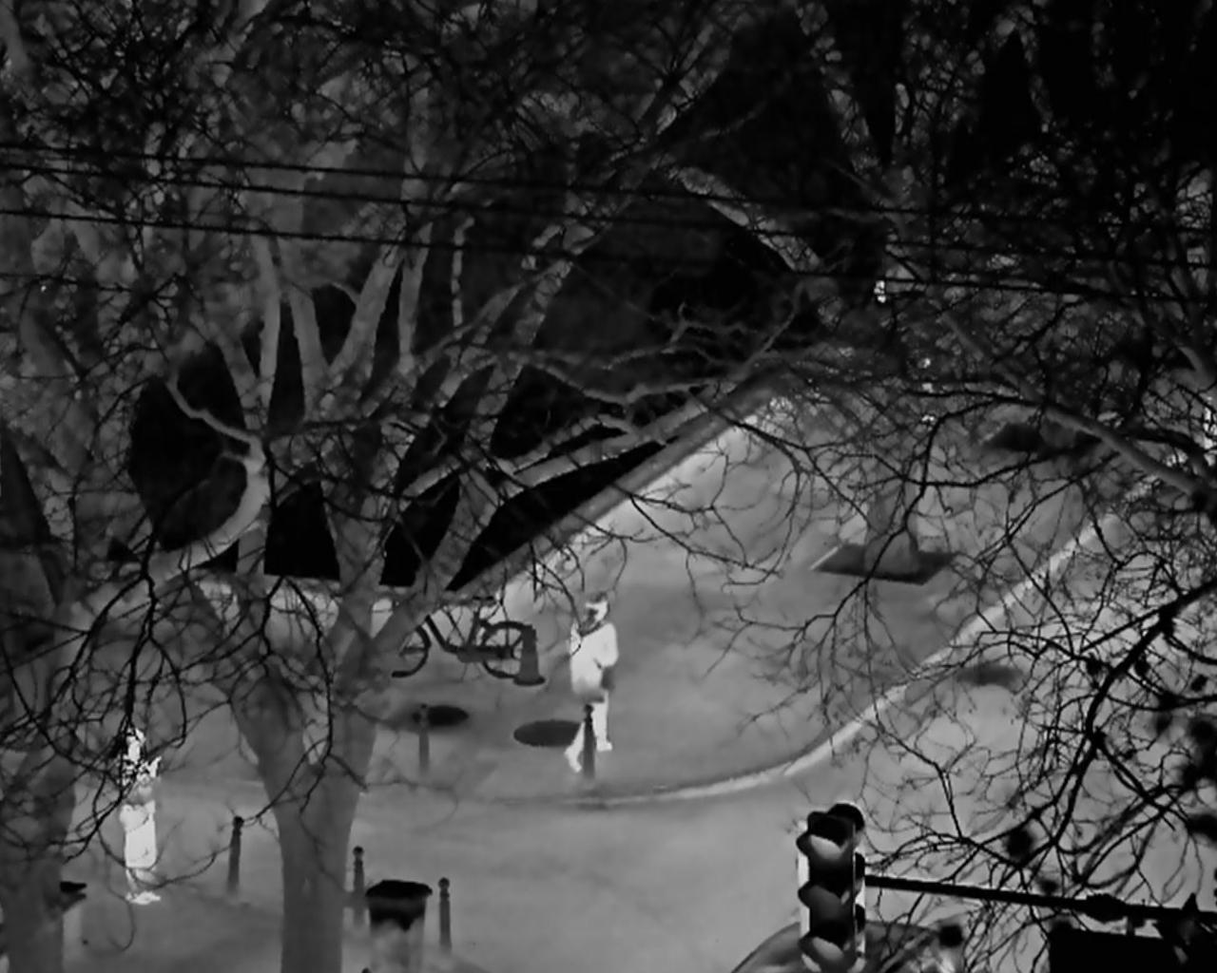person: (563, 590, 622, 774), (115, 724, 162, 903)
